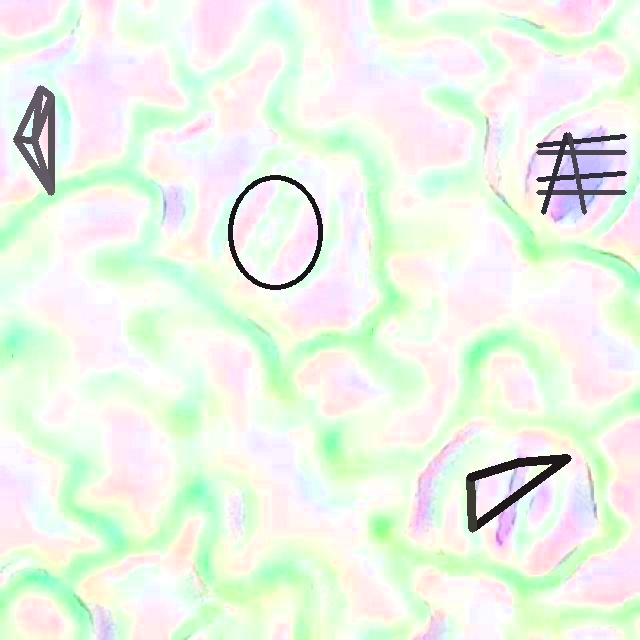close: (13, 85, 54, 195)
open: (228, 175, 322, 289), (466, 458, 571, 532), (536, 132, 625, 213)
